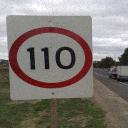speed_limit_110: (4, 12, 97, 102)
